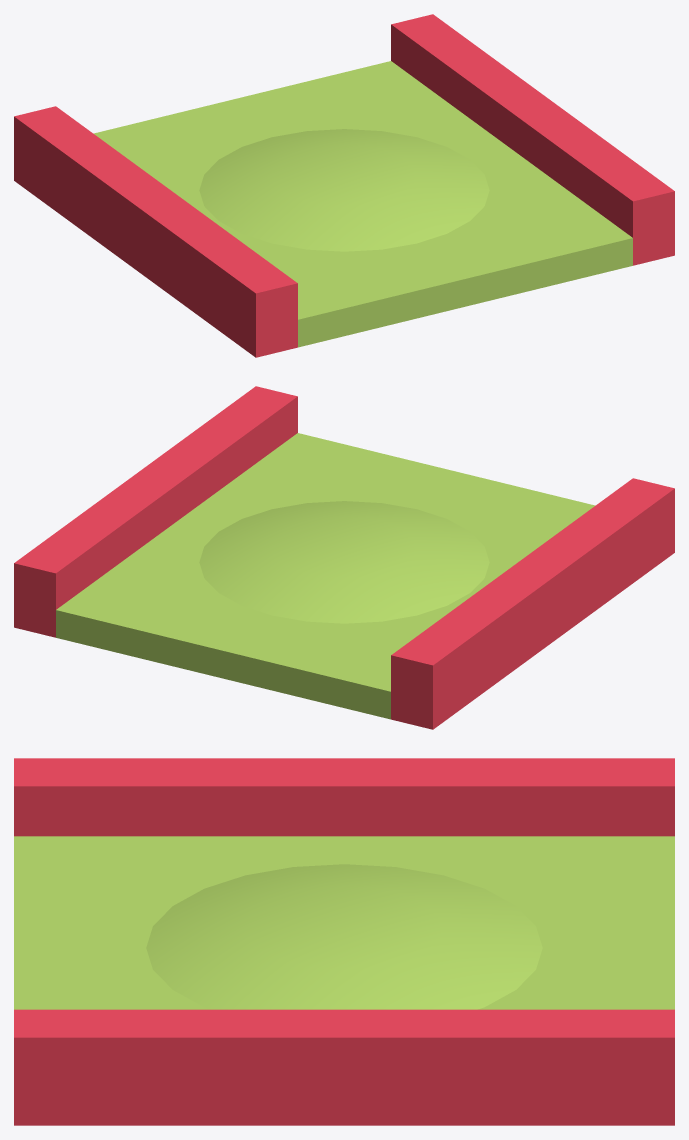
The model's file is bumpWalls.fbx.
3 views of the same model, one above another, from view 1: azimuth 30°, elevation 25°; view 2: azimuth 150°, elevation 25°; view 3: azimuth 270°, elevation 25° (orthographic). The views are drawn at different scales.
Visible parts, largest first — view 1: bumpWalls; view 2: bumpWalls; view 3: bumpWalls.
Boxes of the visible parts, bbox=[...] form: bumpWalls: bbox=[14, 14, 674, 357]; bumpWalls: bbox=[14, 386, 674, 729]; bumpWalls: bbox=[14, 758, 674, 1125].
Bounding box in the file's own units: 10 × 1.47 × 10.
